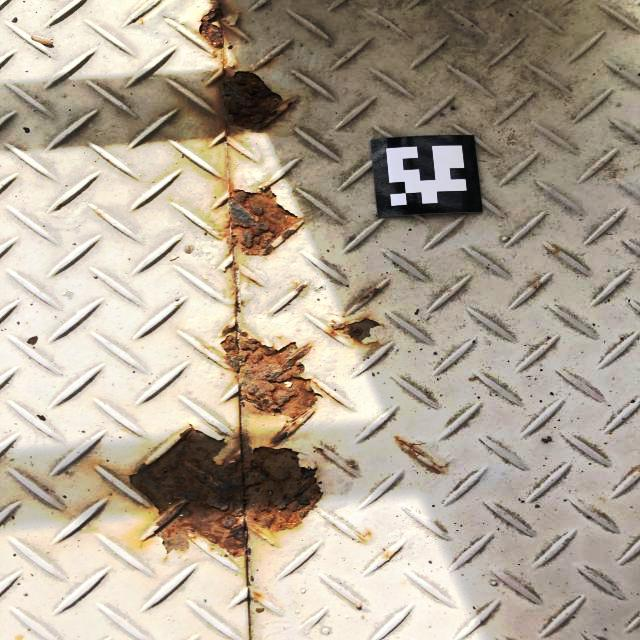Corrosion: (129, 428, 323, 557), (201, 317, 318, 446), (224, 187, 305, 256), (207, 68, 294, 131), (330, 319, 381, 348), (199, 2, 225, 53), (228, 253, 244, 326), (395, 437, 427, 457), (357, 287, 382, 303), (355, 528, 373, 544), (428, 462, 449, 472), (292, 281, 308, 294), (380, 550, 391, 560), (254, 591, 262, 598)
